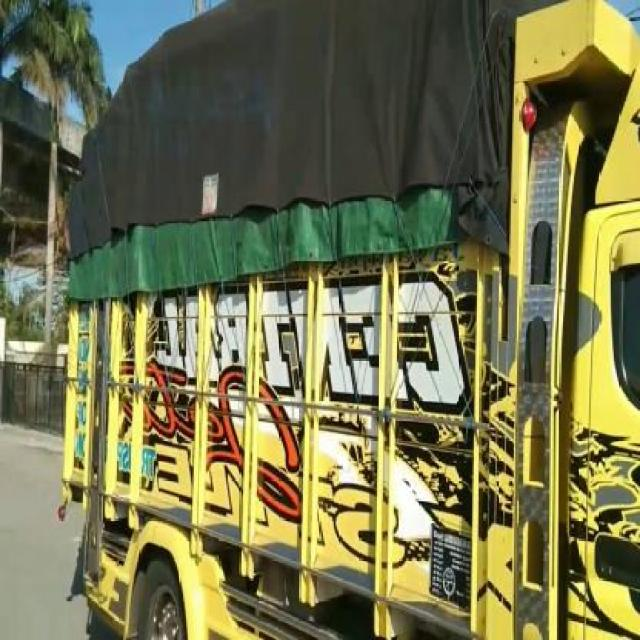truck: (59, 1, 640, 635)
